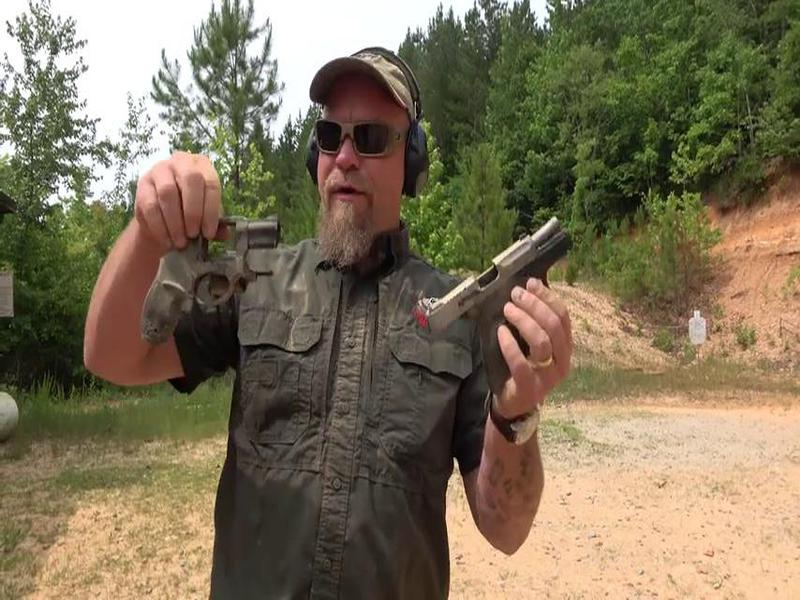Pistola: (418, 207, 593, 410)
Revolver: (130, 161, 299, 382)
